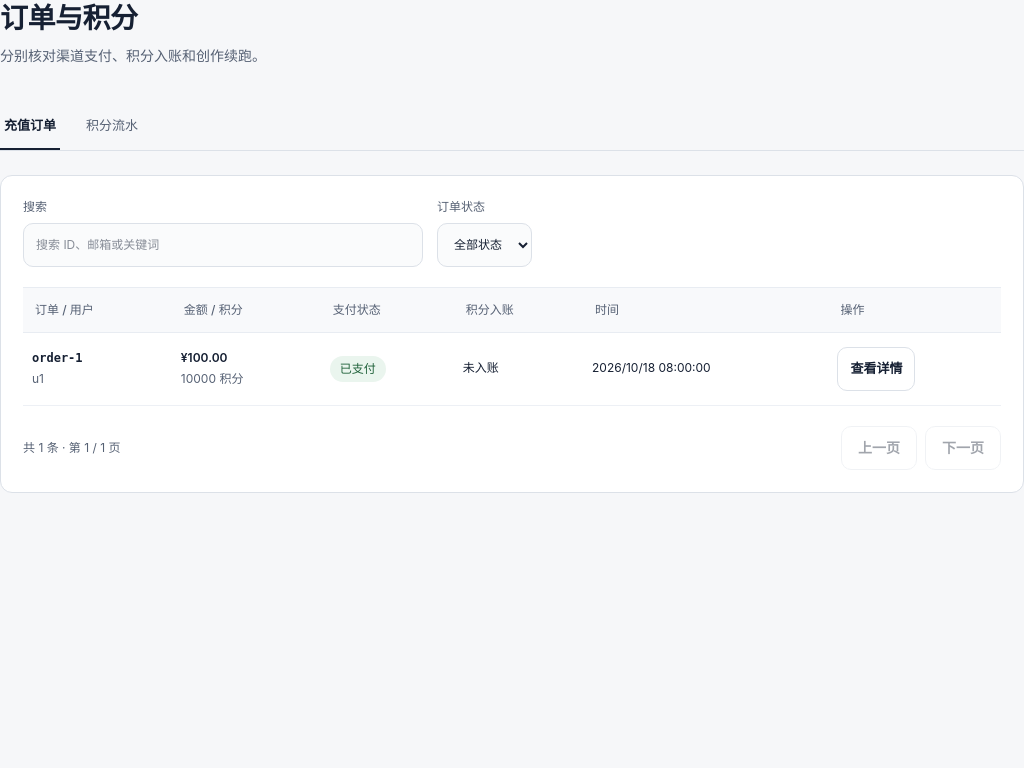
historical refund timestamp never renders as a newly confirmed successful refund
Step 1. Click the button with aria-label "查看订单 order-1" → [876, 369], box [838, 347, 916, 391]
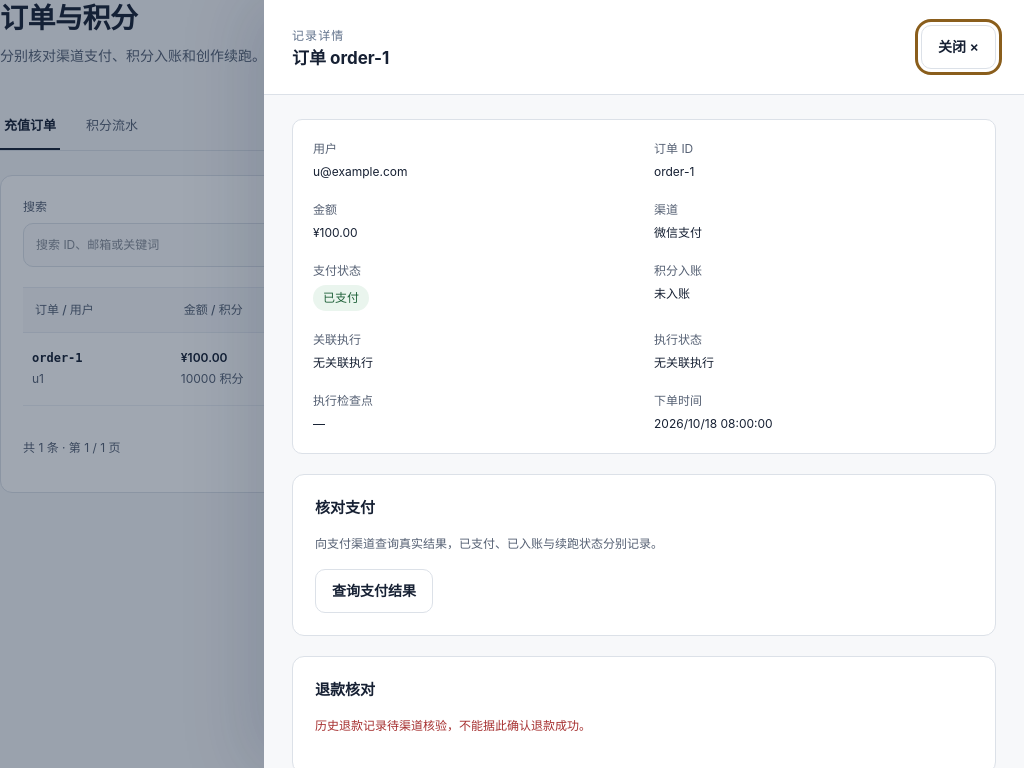
Check: the text "历史退款记录待渠道核验，不能据此确认退款成功。" is shown, box [315, 718, 591, 733]
